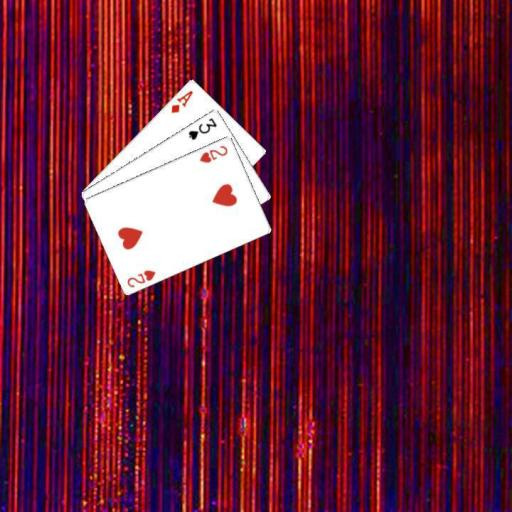card-corner: (185, 114, 218, 142), (168, 87, 195, 114), (196, 142, 229, 164), (124, 266, 157, 288)
